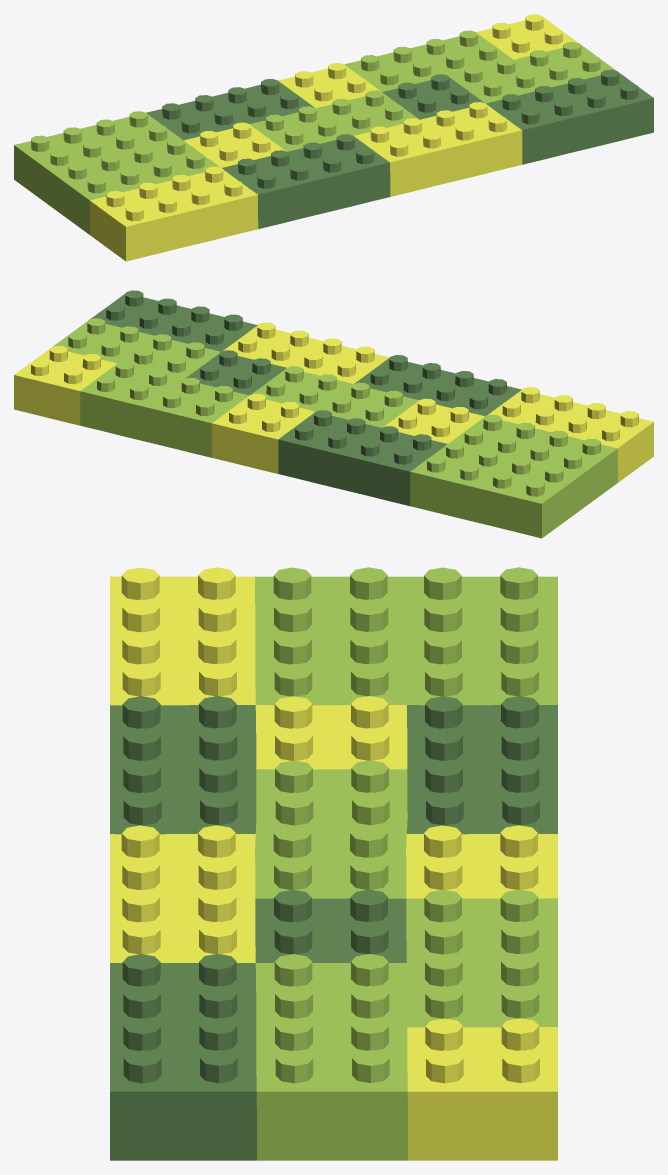
The model's file is LegoFloor (3).fbx.
3 renders of one model, top to bottom at view 1: azimuth 30°, elevation 25°; view 2: azimuth 150°, elevation 25°; view 3: azimuth 270°, elevation 25°, orthographic. The views are drawn at different scales.
Visible parts, largest first — view 1: polySurface8016; view 2: polySurface8016; view 3: polySurface8016.
Part boxes in pixels (left/top/right/bottom): polySurface8016: left=14, top=14, right=653, bottom=261; polySurface8016: left=14, top=290, right=653, bottom=538; polySurface8016: left=110, top=567, right=557, bottom=1160.
Bounding box in the file's own units: 98.76 × 7.76 × 36.3.
